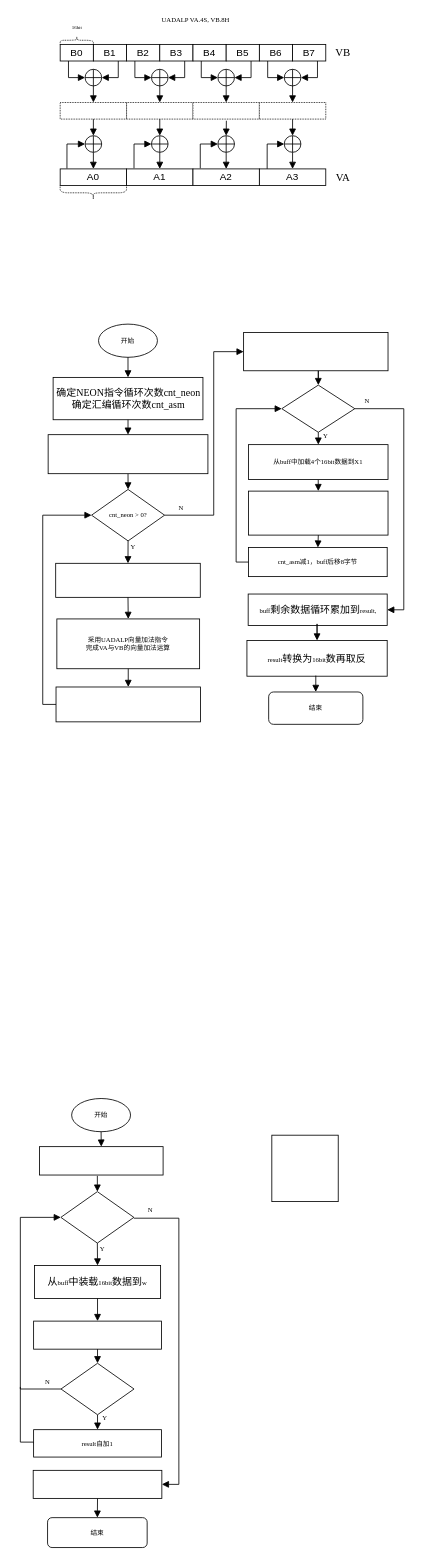
Image size: 425x1562. Some labels were removed from this diagram. Each missing label, with the centre of its shape:
"32bit" goes at point (93, 192).
"cnt16 > 0?" goes at point (97, 1217).
"cnt_asm > 0?" goes at point (318, 408).
"cnt_neon减1，buff后移16字节" goes at point (127, 704).
"result取反" goes at point (97, 1484).
"result溢出？" goes at point (97, 1388).
"VA中的4个32bit数据累加到result" goes at point (315, 351).
"从buff中加载8个16bit数据到VB" goes at point (127, 579).
"定义NEON寄存器变量VA，并初始化为0。定义NEON寄存器变量VB。" goes at point (127, 454).
"将w累加到result" goes at point (97, 1334).
"确定 循环 累 加次数 cnt16" goes at point (101, 1160).
"采用 ADDS ADCS 加法指令 完成result+X1累加运算" goes at point (318, 512).
